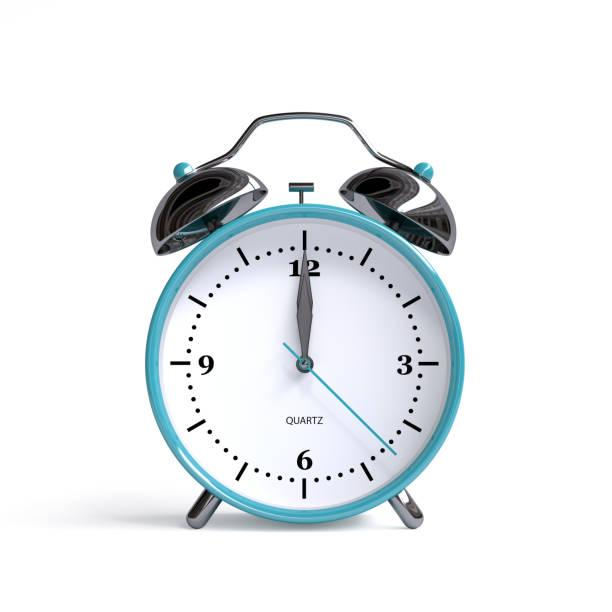clock: (109, 84, 499, 571)
